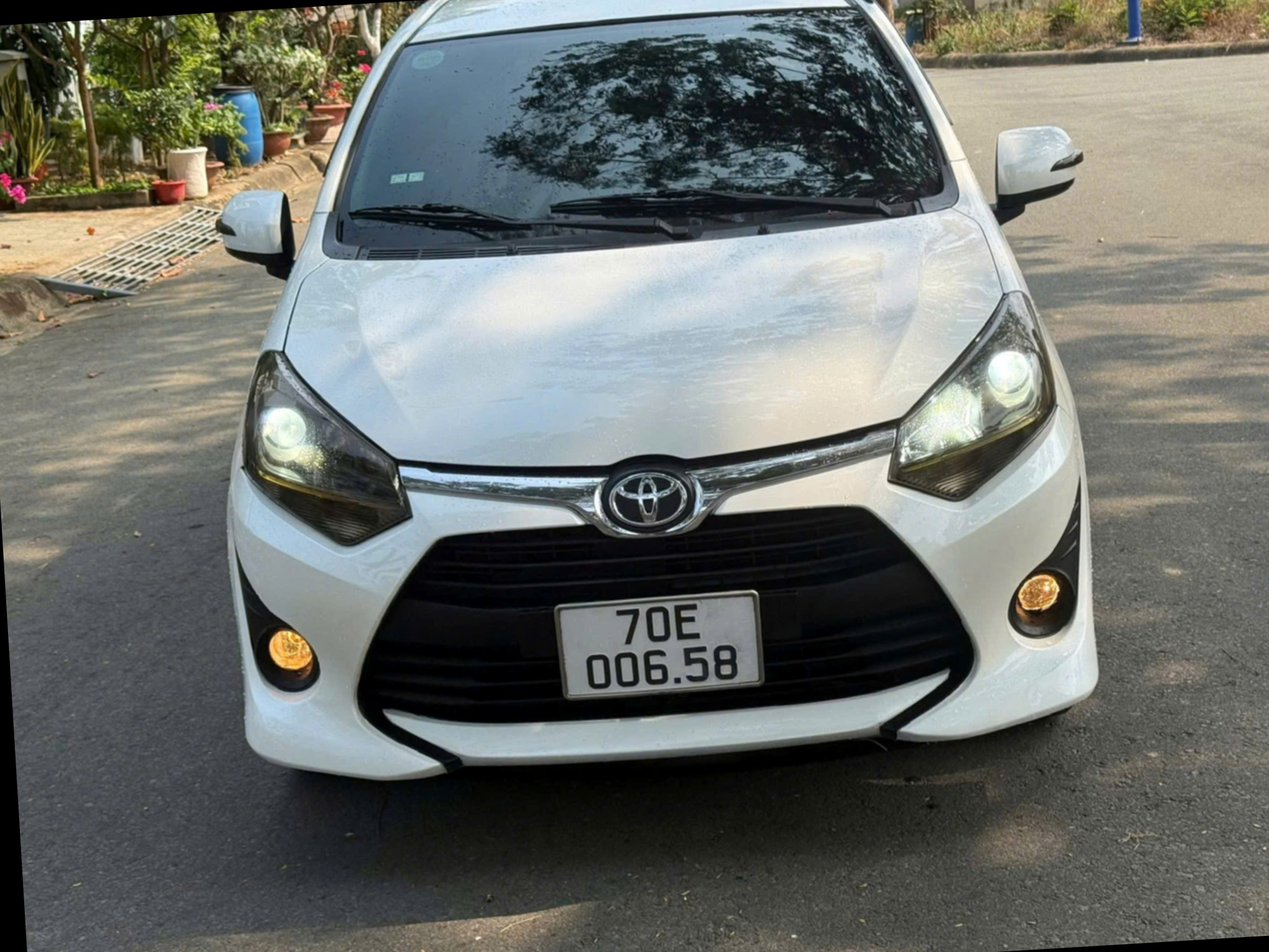Bien-so: (499, 590, 703, 682)
